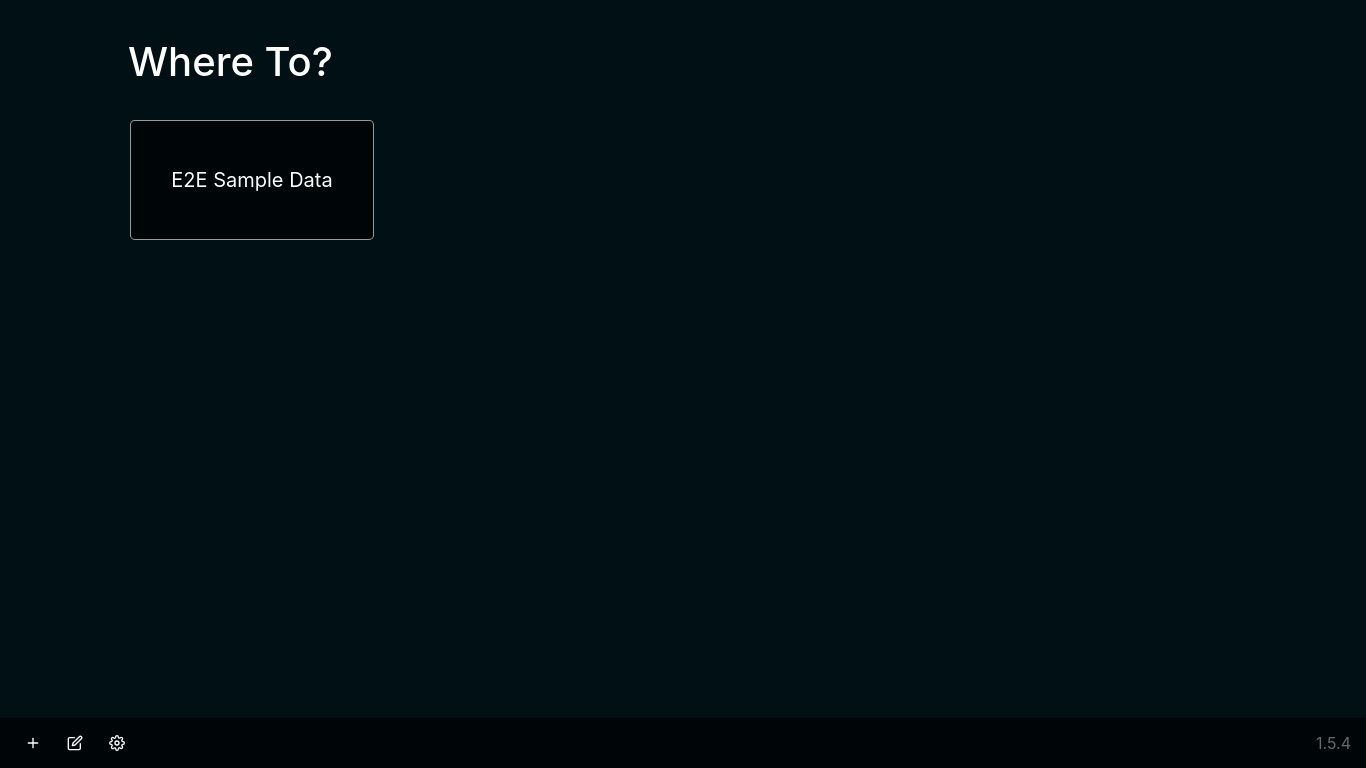
Test case: App (e2e) › can create portal
The image size is (1366, 768).
Note: Click add portal button
Click the button with test id "footer-button-add": [33, 743] box x1=15 y1=726 x2=51 y2=760
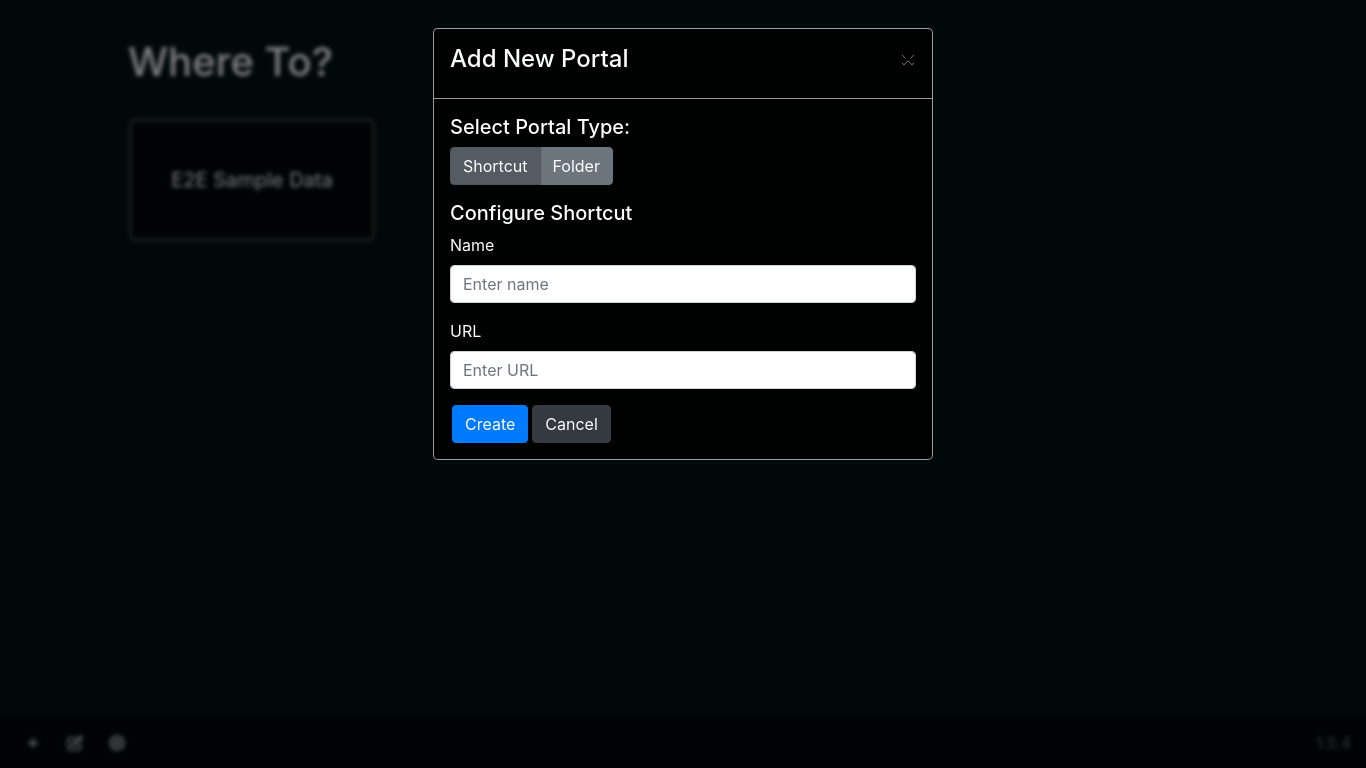
Note: Fill out form and submit
In the field with placeholder "Enter name": [683, 284] box x1=450 y1=265 x2=916 y2=303, type "New shortcut"
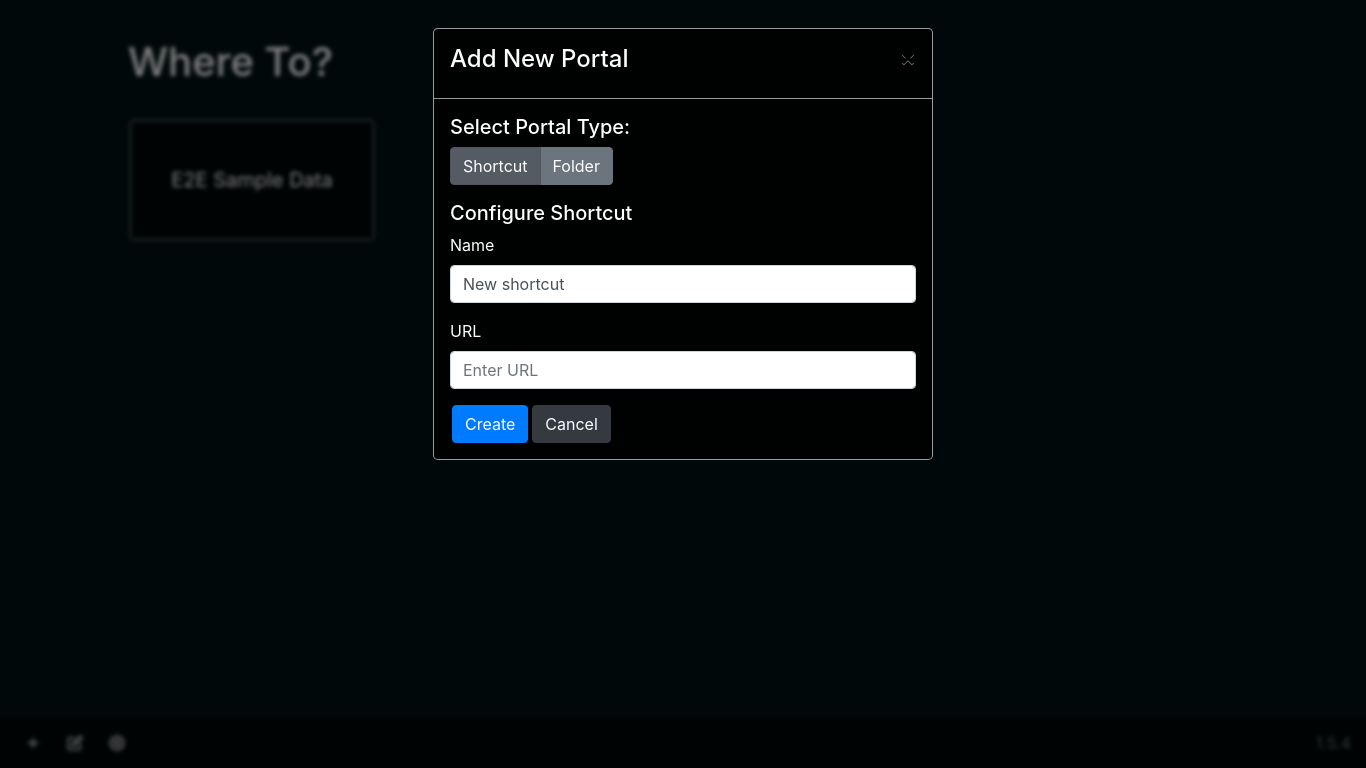
In the field with placeholder "Enter URL": [683, 370] box x1=450 y1=351 x2=916 y2=389, type "about:blank"
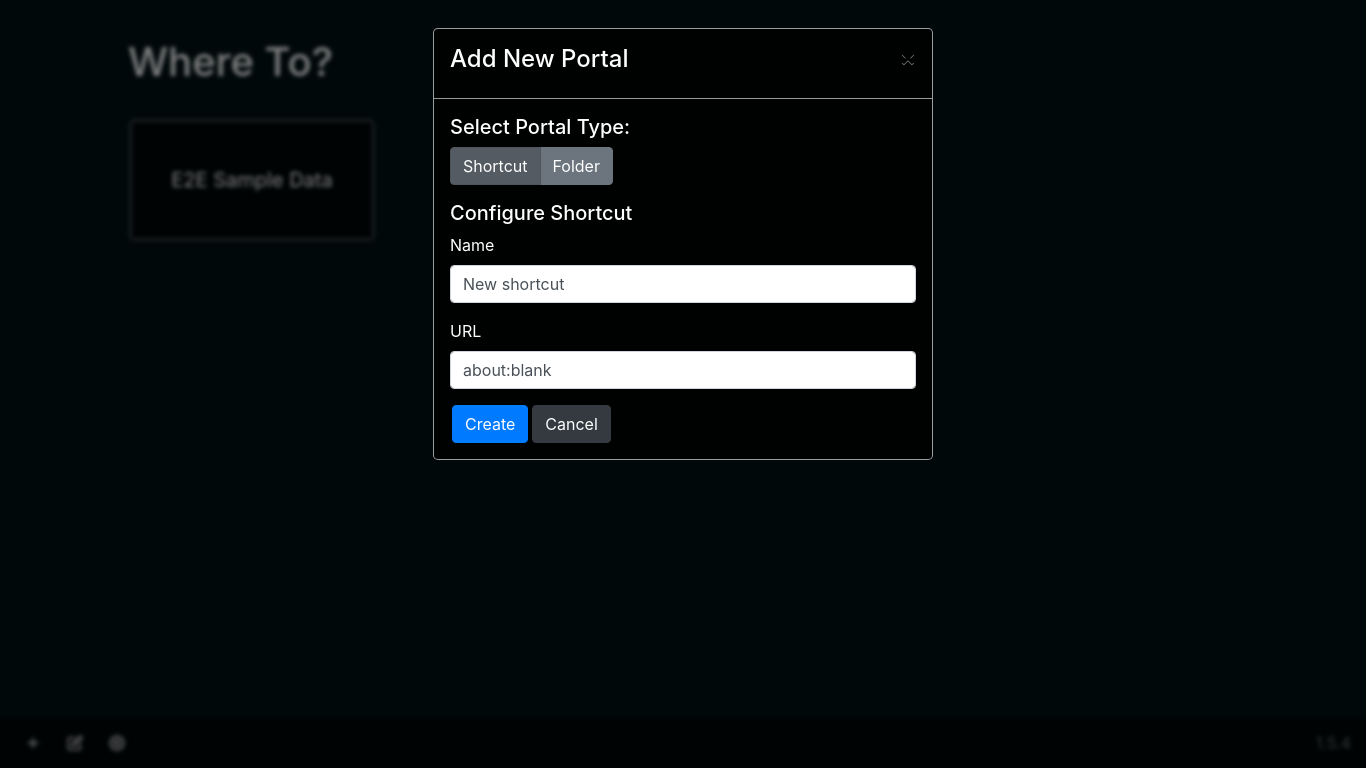
Click the button "Create": [490, 424] box x1=452 y1=405 x2=528 y2=443
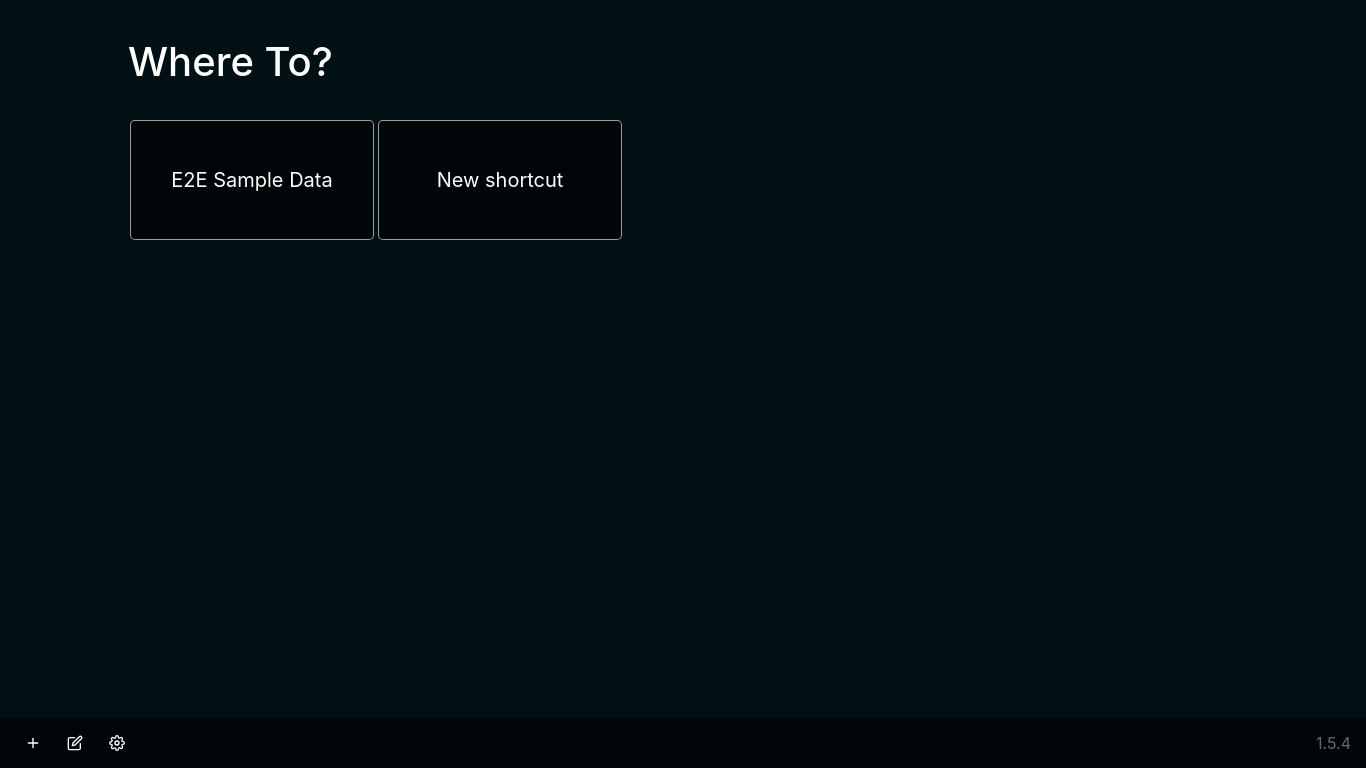
Check: the text "New shortcut" is shown, box x1=437 y1=168 x2=563 y2=192
